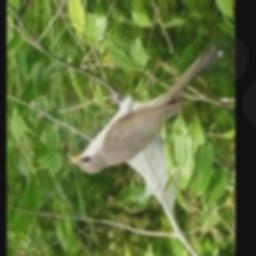Cuckoo: (64, 43, 218, 174)
